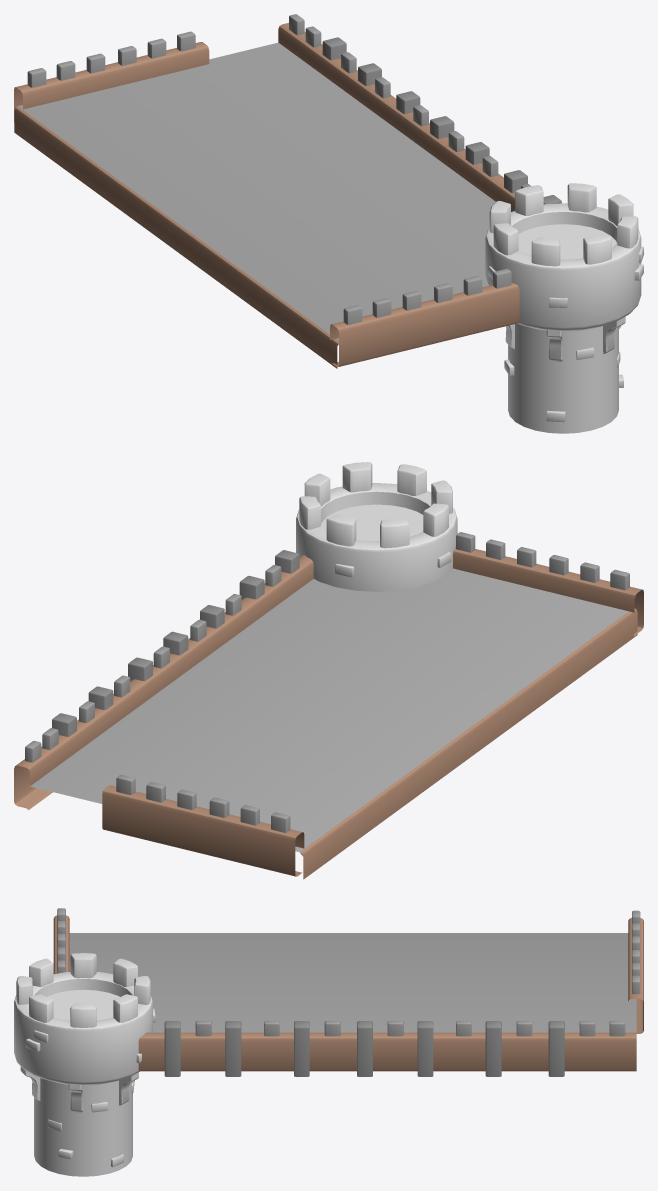
Rendered from Castle.fbx.
3 views of the same model, one above another, from view 1: azimuth 30°, elevation 25°; view 2: azimuth 150°, elevation 25°; view 3: azimuth 270°, elevation 25° (orthographic). The views are drawn at different scales.
Parts seen in each view (by area): view 1: Wall_4, Tower_2; view 2: Wall_4, Tower_2; view 3: Wall_4, Tower_2.
Boxes of the visible parts, x1=… form: Wall_4: x1=14, y1=14, x2=561, y2=368; Tower_2: x1=485, y1=183, x2=643, y2=433; Wall_4: x1=14, y1=532, x2=643, y2=879; Tower_2: x1=296, y1=462, x2=457, y2=591; Wall_4: x1=53, y1=908, x2=643, y2=1076; Tower_2: x1=14, y1=953, x2=155, y2=1176.
Bounding box in the file's own units: 493 × 300 × 977.
